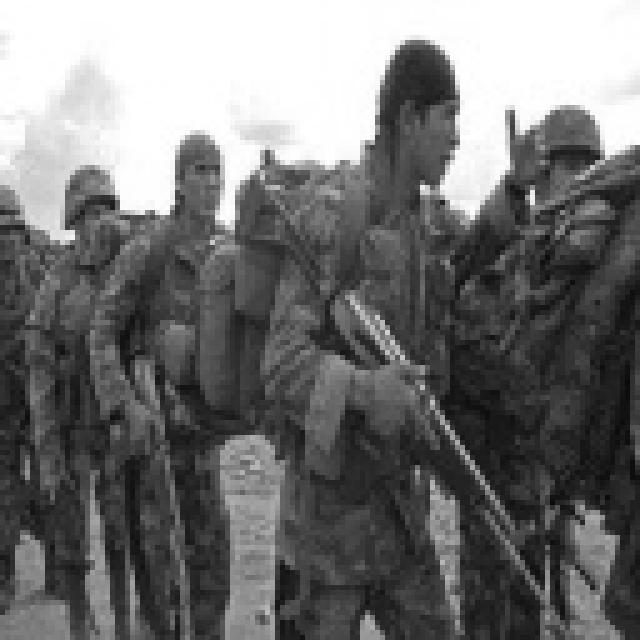Rifle: (209, 141, 559, 640), (86, 335, 230, 640)
